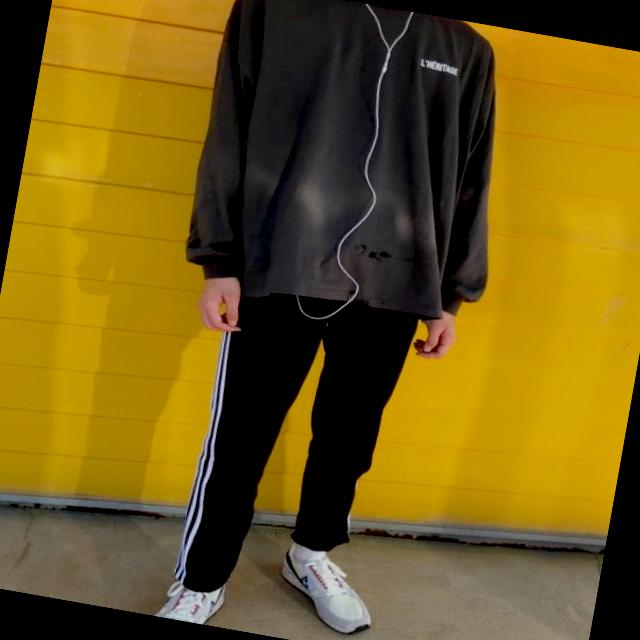longsleeve: (175, 0, 532, 335)
trainingpants: (174, 276, 420, 622)
